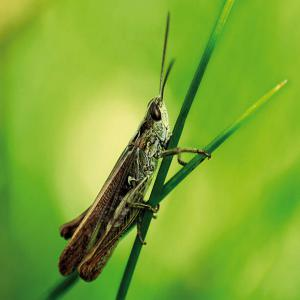locust: (54, 51, 195, 292)
